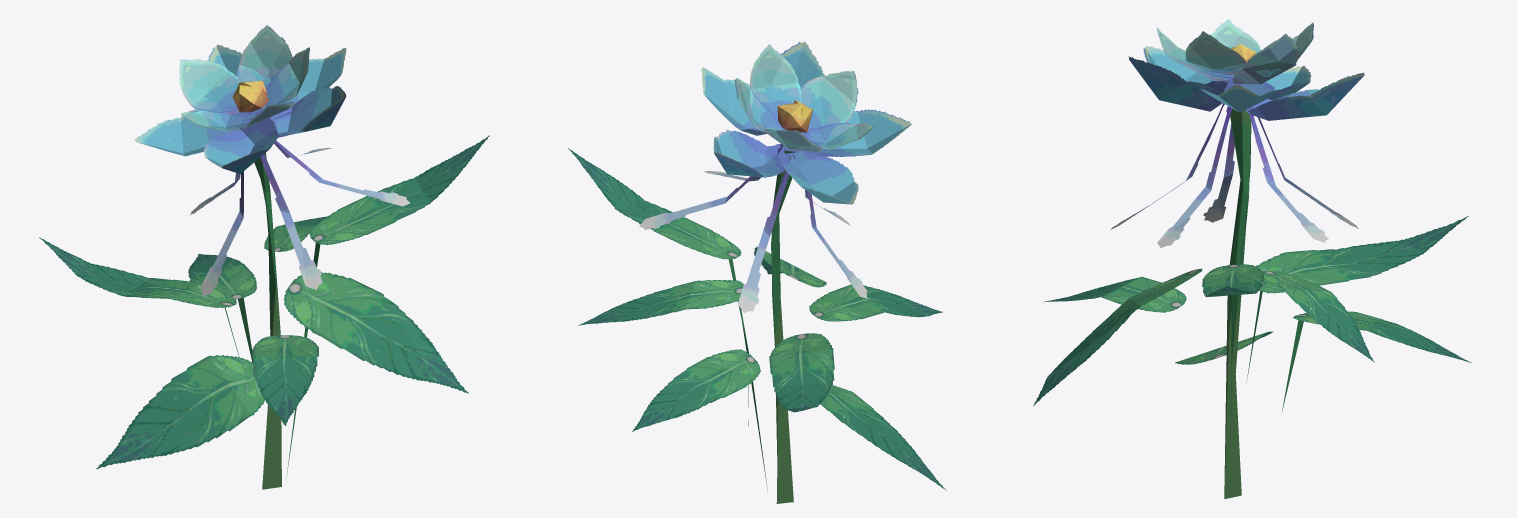
The model's file is gi-GlazedLily_Day.glb.
The picture shows the model from 3 angles, left to right: view 1: azimuth 30°, elevation 25°; view 2: azimuth 150°, elevation 25°; view 3: azimuth 270°, elevation 25°; orthographic projection. The views are drawn at different scales.
Visible parts, largest first — view 1: gi-GlazedLily_Day; view 2: gi-GlazedLily_Day; view 3: gi-GlazedLily_Day.
Part boxes in pixels (x1,y1,x2,y2): gi-GlazedLily_Day: [39, 25, 489, 489]; gi-GlazedLily_Day: [568, 41, 946, 503]; gi-GlazedLily_Day: [1033, 19, 1471, 499].
Size of the model in its own units: 0.799 by 0.8539 by 0.7912.
1 material, 1 textured.
